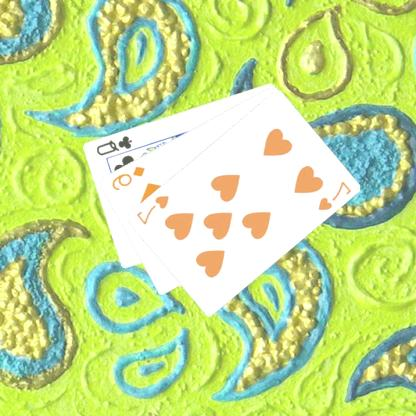6D: (110, 163, 148, 192)
7H: (316, 178, 354, 212), (135, 192, 172, 226)
QC: (95, 132, 135, 157)
